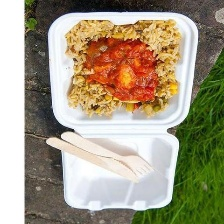foam_box: (43, 9, 204, 216)
